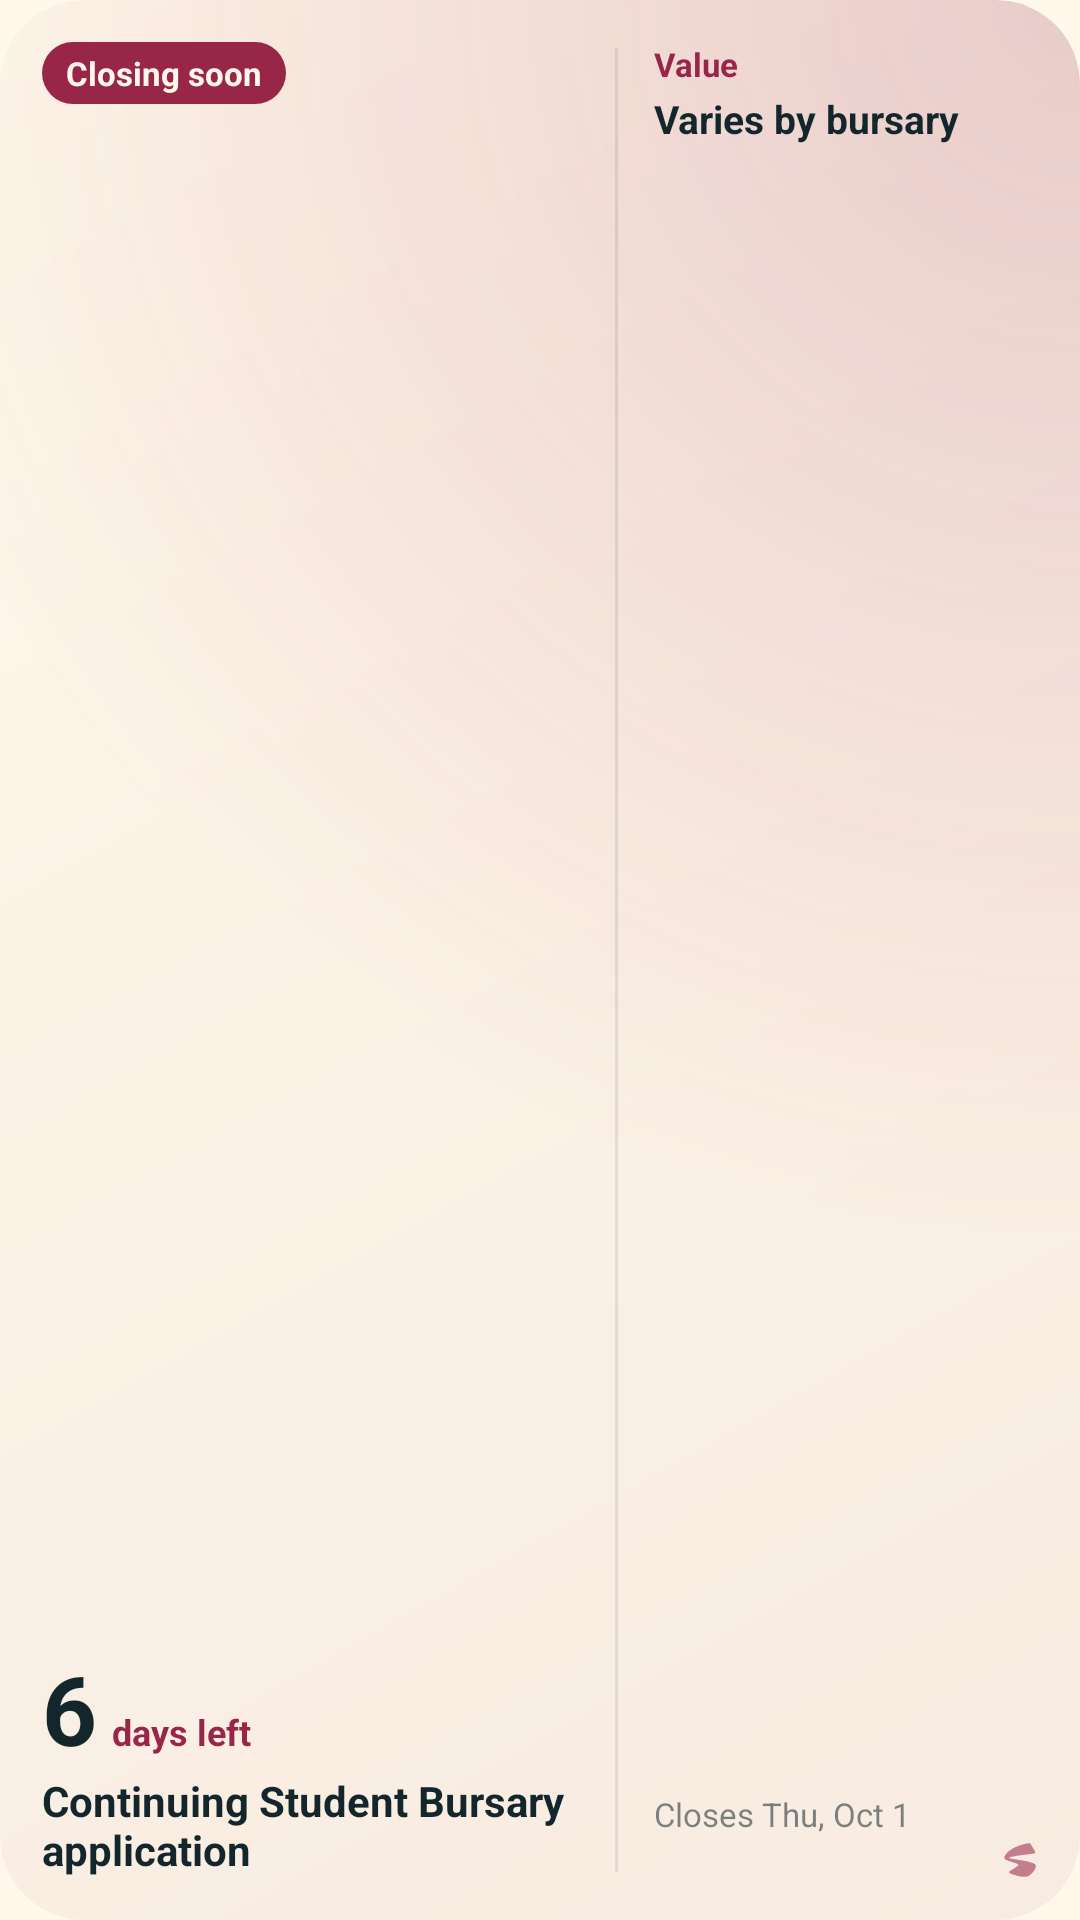

Screen size 1080 × 1920. Icon name, then its center in pixels as (x=x, y=y):
widget mark: (x=1020, y=1860)
